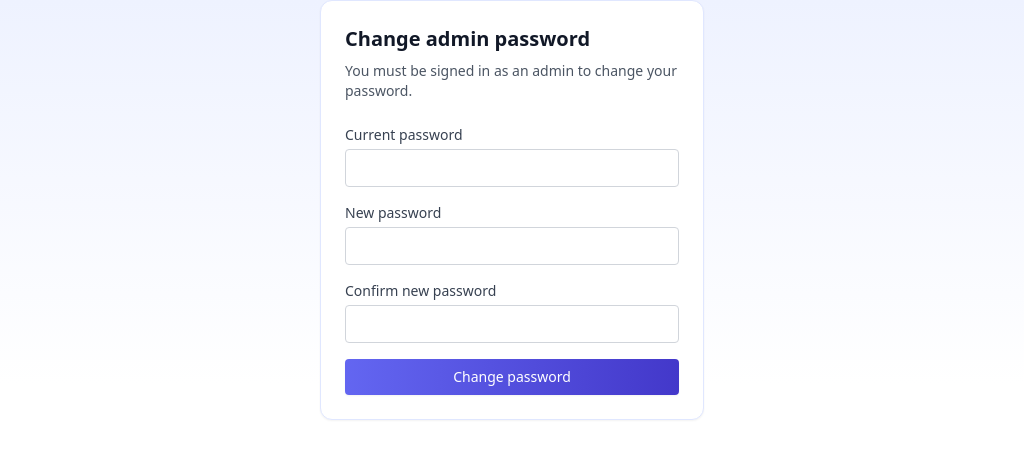
AdminPasswordPage › shows Cognito errors
The image size is (1024, 473).
Type "old" into the password field labelled "Current password". click: (512, 168)
box: [345,149,679,187]
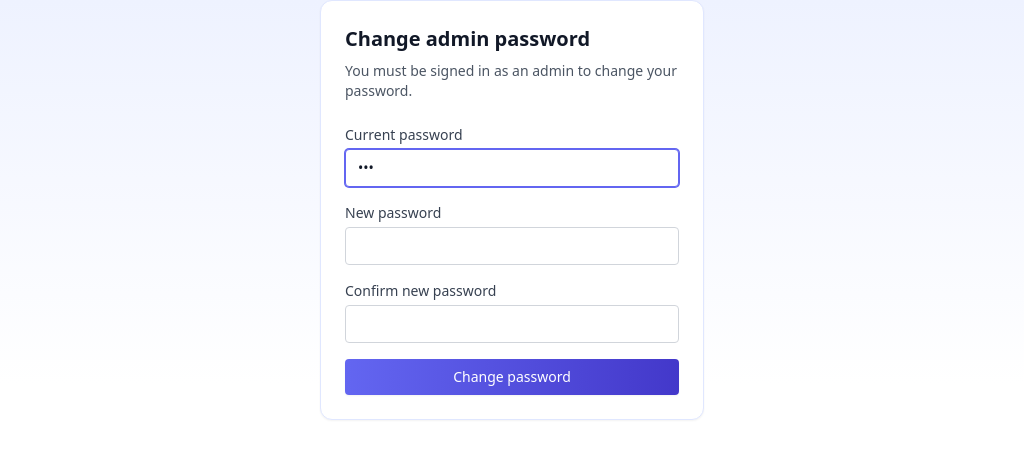
Type "newer" into the password field labelled "New password". click: (512, 246)
box: [345,227,679,265]
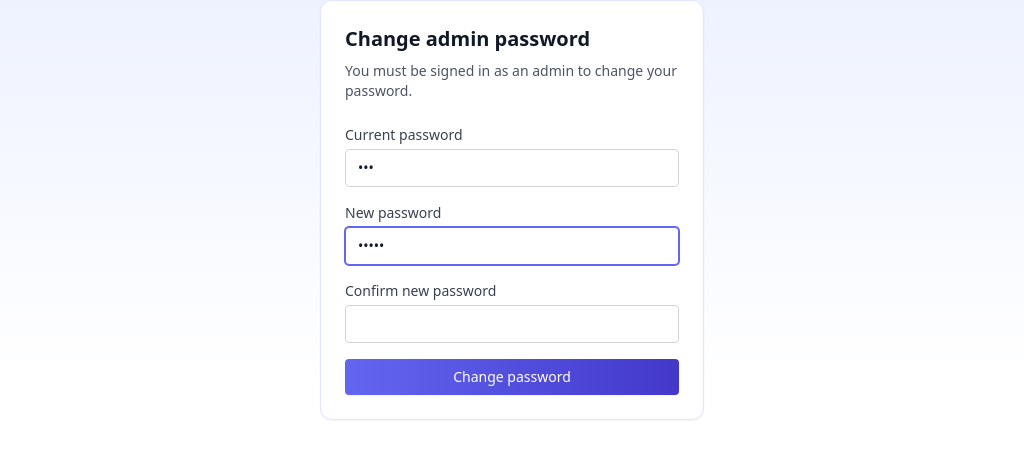
Type "newer" into the password field labelled "Confirm new password". click: (512, 324)
box: [345,305,679,343]
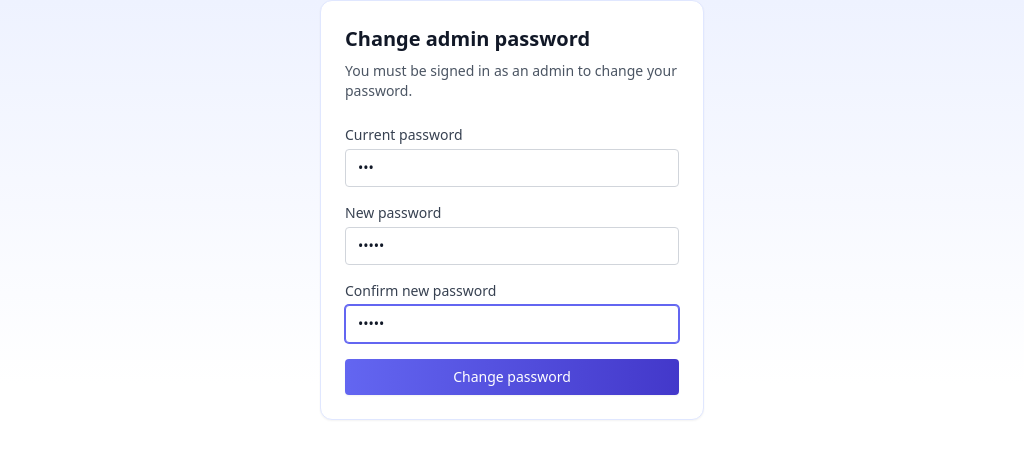
Click the button "Change password". click: (512, 377)
box: [345,359,679,395]
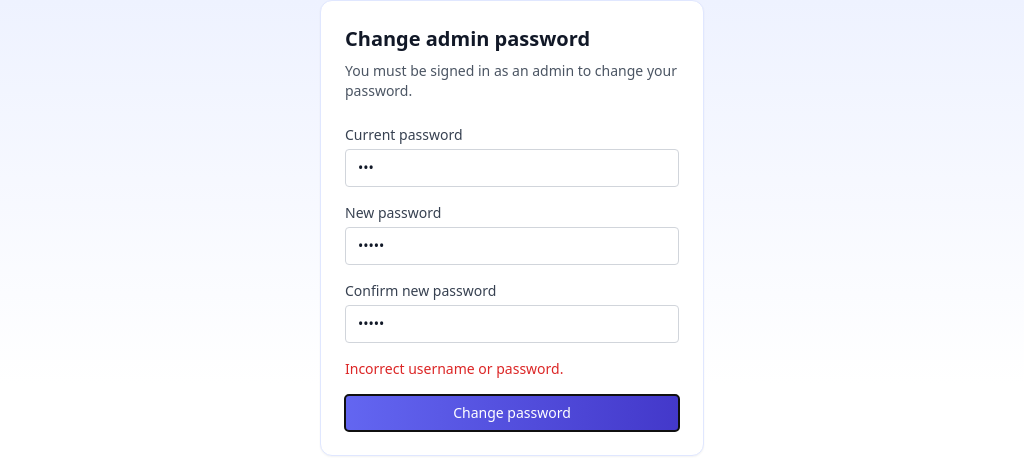
expect the message reads "Incorrect username or password.": met, box [345,359,564,378]
